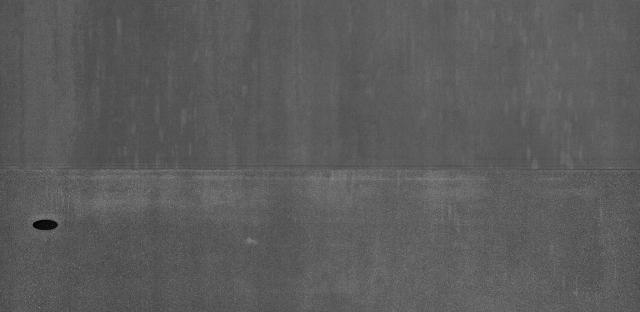punching_hole: (29, 216, 62, 236)
welding_line: (0, 161, 637, 181)
